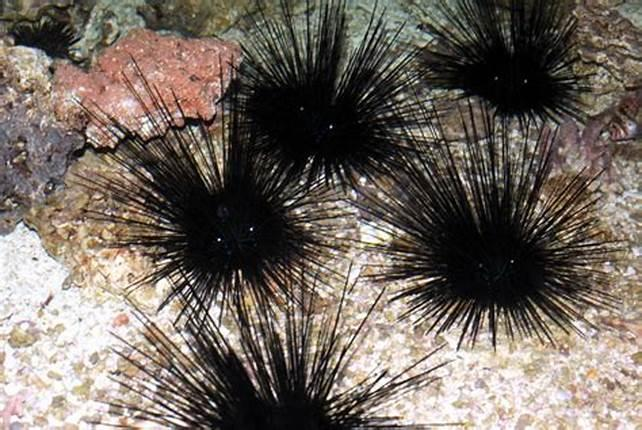urchin: (139, 297, 417, 429), (137, 128, 317, 294), (387, 180, 582, 332), (236, 51, 399, 185), (447, 20, 586, 113)
